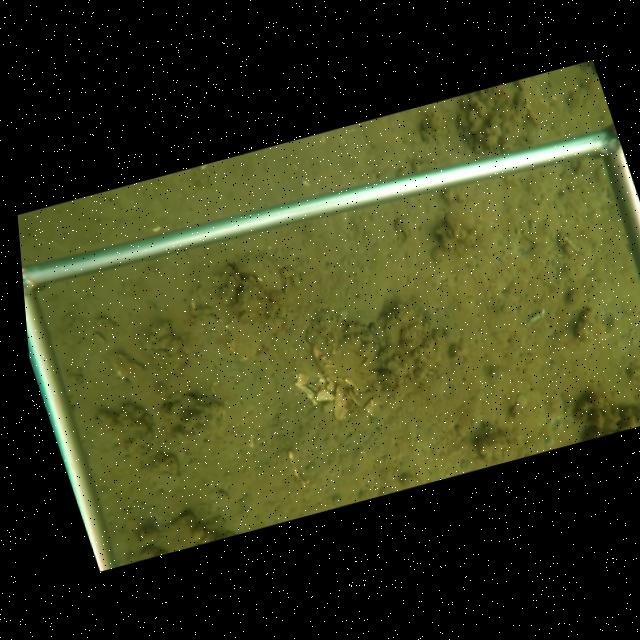Oyster-Indeterminate: (227, 306, 268, 363), (235, 249, 282, 294)
